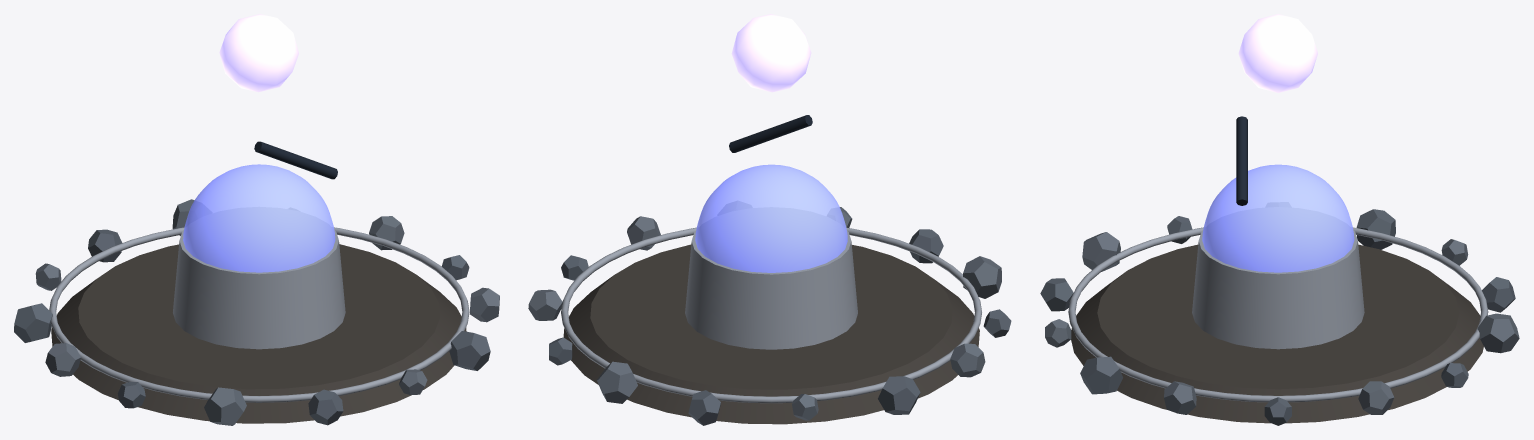
File: unit05.glb
3 renders of one model, left to right at view 1: azimuth 30°, elevation 25°; view 2: azimuth 150°, elevation 25°; view 3: azimuth 270°, elevation 25°, orthographic.
Parts seen in each view (by area): view 1: rw3_unit05_observatory, Crystal; view 2: rw3_unit05_observatory, Crystal; view 3: rw3_unit05_observatory, Crystal.
Boxes of the visible parts, x1,y1,x2,y2 form: rw3_unit05_observatory: (14, 141, 499, 425); Crystal: (219, 14, 298, 92); rw3_unit05_observatory: (528, 115, 1011, 425); Crystal: (731, 14, 811, 92); rw3_unit05_observatory: (1040, 116, 1519, 425); Crystal: (1238, 14, 1317, 92).
Bounding box in the file's own units: 6.64 × 4.85 × 6.62.
